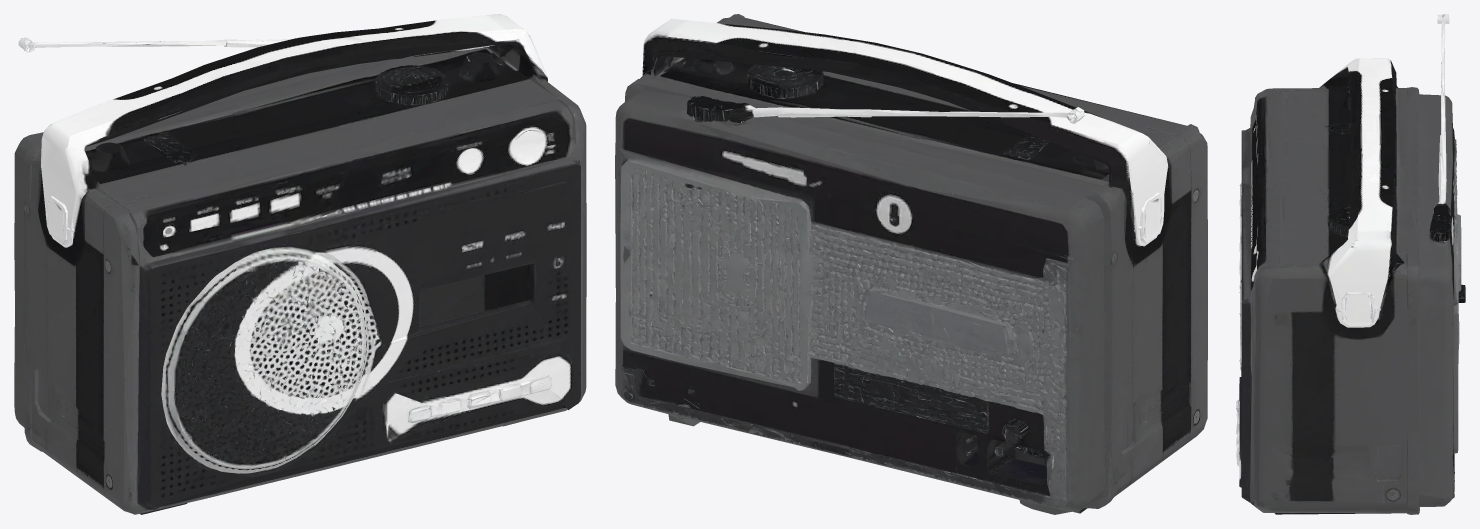
File: sony-08.glb
3 views of the same model, side by side, from view 1: azimuth 30°, elevation 25°; view 2: azimuth 150°, elevation 25°; view 3: azimuth 270°, elevation 25° (orthographic). The views are drawn at different scales.
Size of the model in its own units: 1.9 by 1.53 by 0.961.
Materials: 1 (1 with a texture image).
